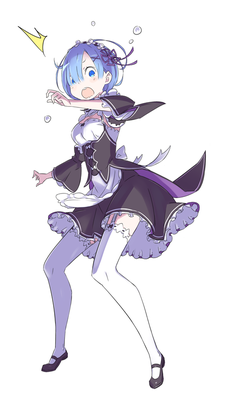rem: (39, 35, 191, 378)
